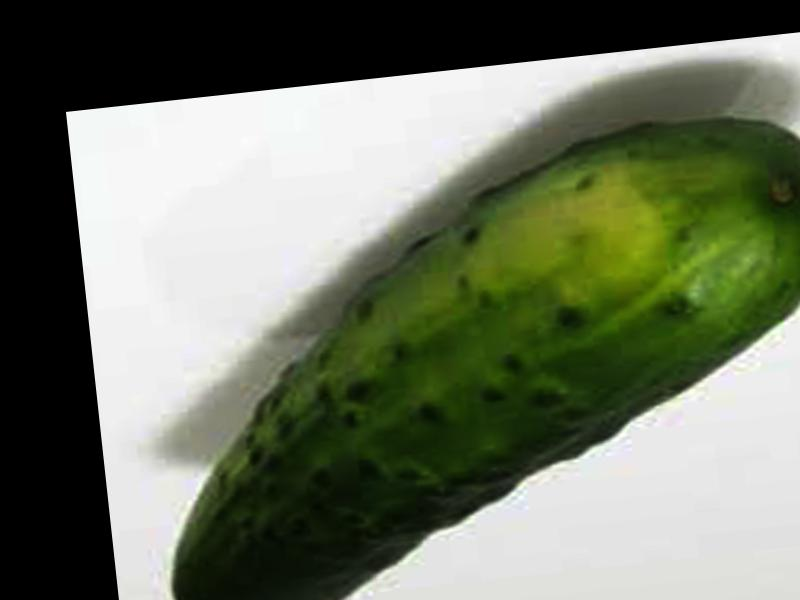Cucumber: (128, 109, 800, 600)
